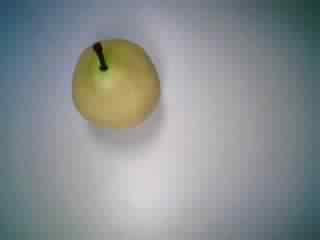pear: (66, 32, 165, 133)
